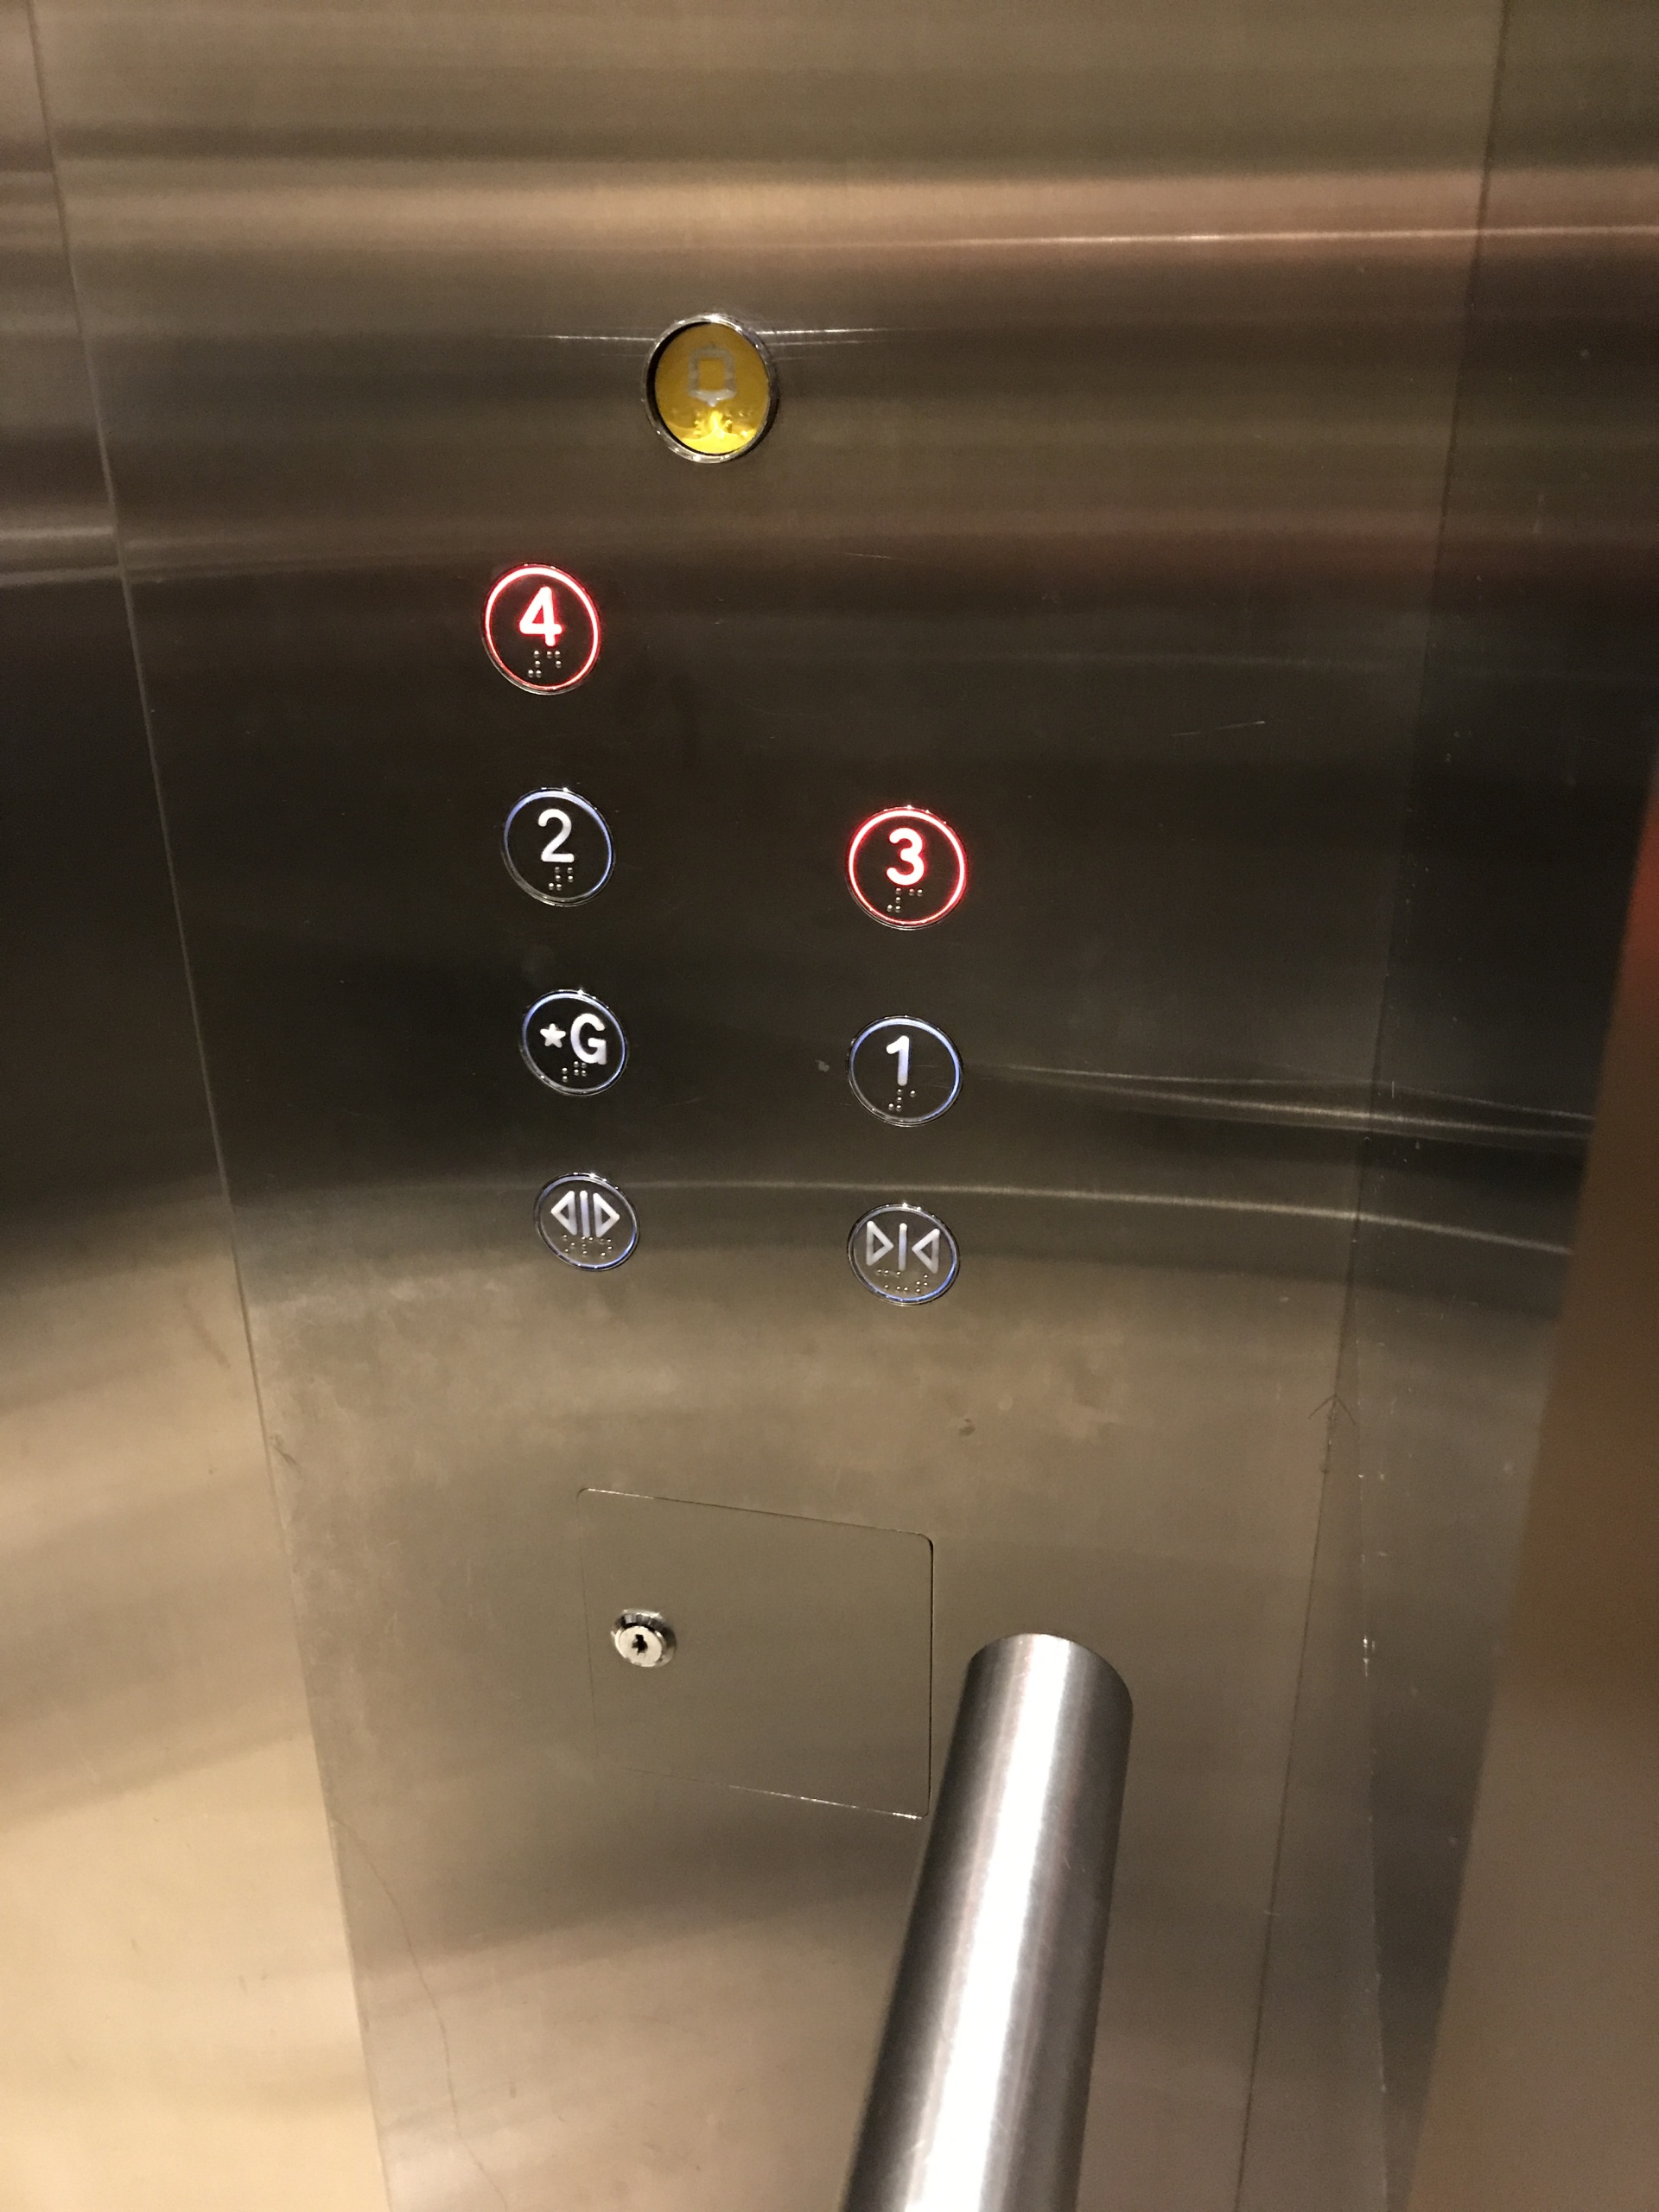1: (840, 1007, 967, 1132)
2: (493, 777, 622, 913)
3: (836, 794, 974, 937)
4: (472, 552, 606, 700)
alarm: (634, 307, 789, 472)
close: (842, 1195, 965, 1313)
open: (528, 1165, 645, 1277)
sG: (511, 979, 634, 1103)
